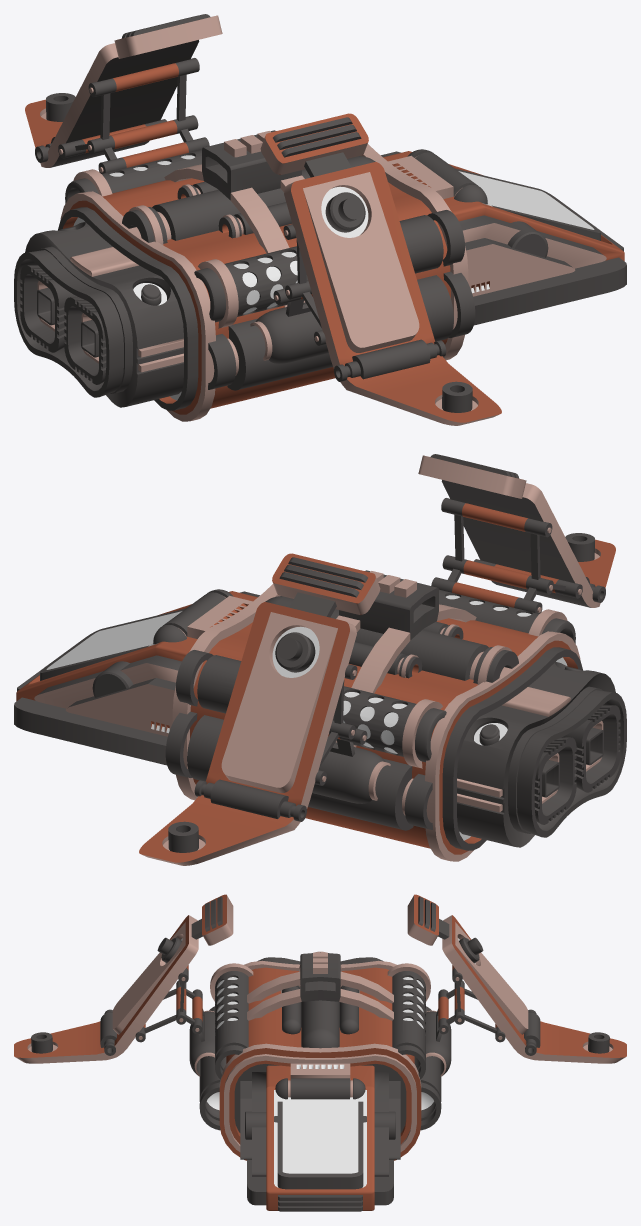
File: ChocolateShip.fbx
3 renders of one model, top to bottom at view 1: azimuth 30°, elevation 25°; view 2: azimuth 150°, elevation 25°; view 3: azimuth 270°, elevation 25°, orthographic. The views are drawn at different scales.
Parts seen in each view (by area): view 1: Mesh; view 2: Mesh; view 3: Mesh.
Boxes of the visible parts, left/top/right/bottom form: Mesh: left=14, top=14, right=626, bottom=425; Mesh: left=14, top=454, right=626, bottom=865; Mesh: left=14, top=894, right=626, bottom=1211.
Size of the model in its own units: 2242 by 1166 by 3174.
